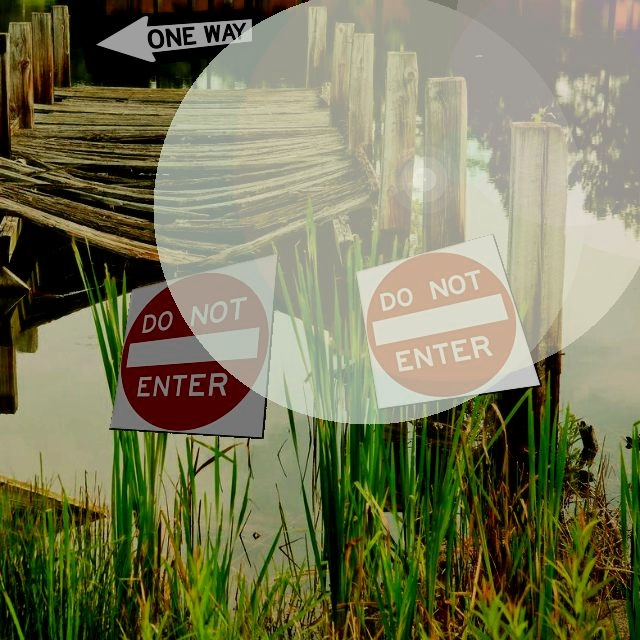DO_NOT_ENTER: (355, 233, 542, 410), (109, 252, 279, 439)
ONE_WAY_ left: (74, 7, 261, 74)
